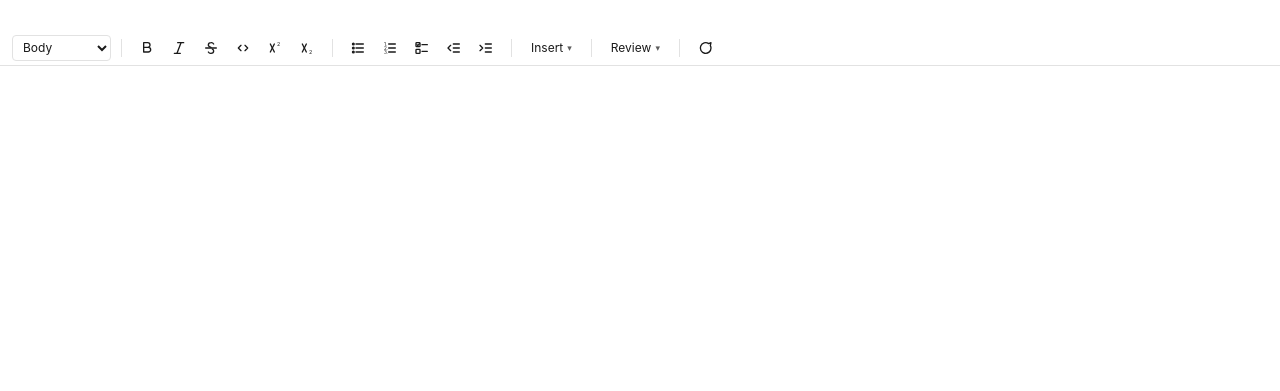
EditorToolbar — 삽입/검토 드롭다운 › 메뉴에서 고른 액션이 접기 전과 동일한 명령을 실행한다 (TOC 삽입)
The image size is (1280, 391).
Click the button "Insert ▾" at (551, 48), box [522,35,581,61]
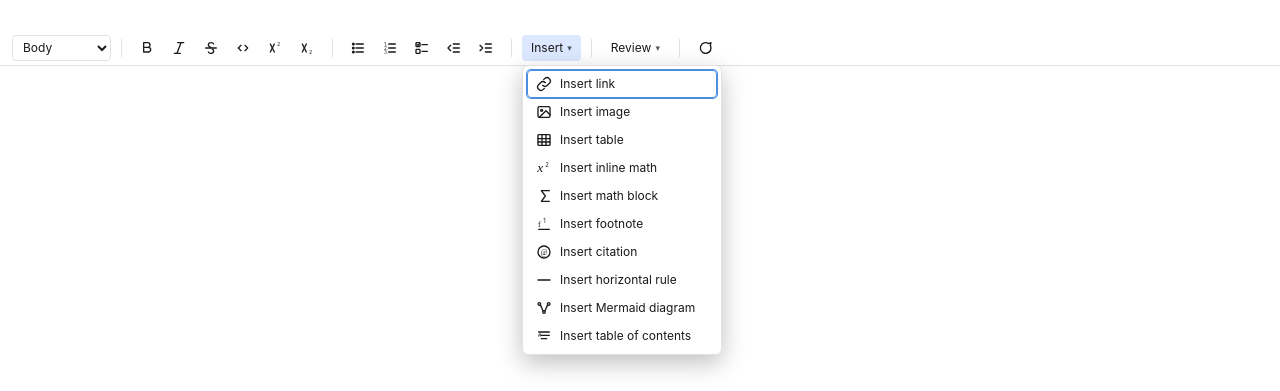
Click the menu item "# Insert table of contents" at (622, 336), box [527,322,717,350]
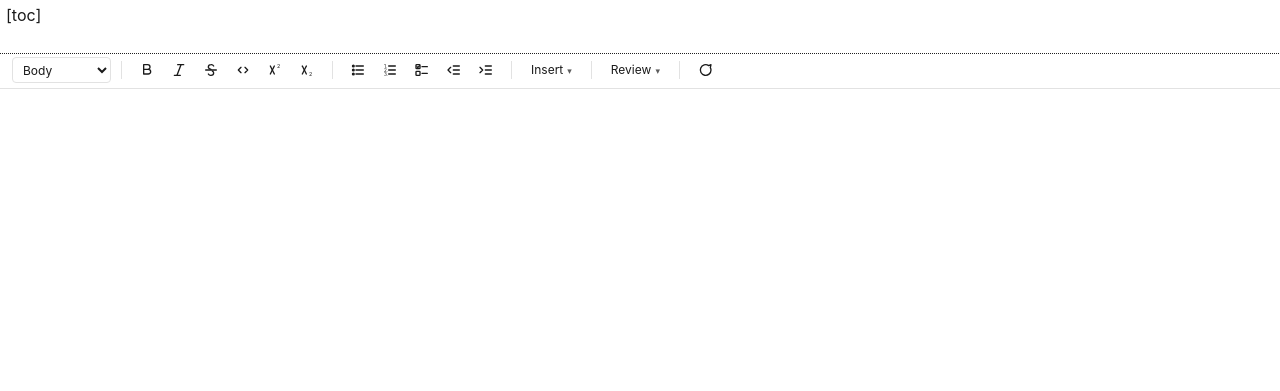
expect the text box labelled "[toc]" is shown: met, box [6,5,41,25]
